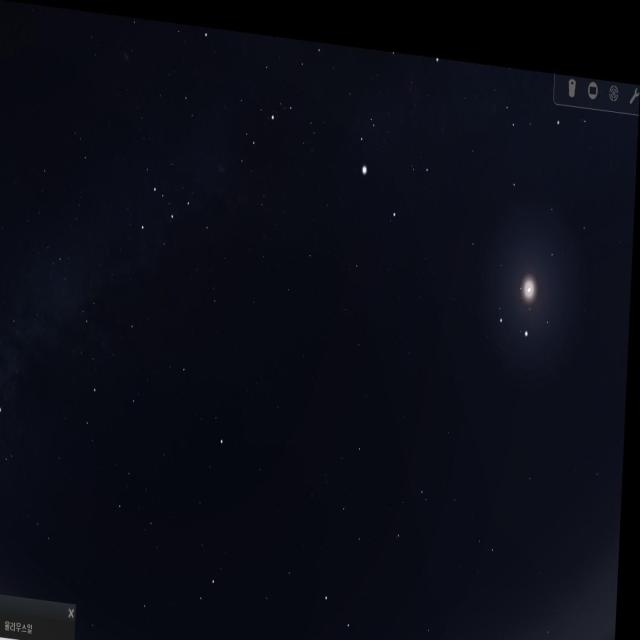cassiopeia: (140, 160, 223, 267)
moon: (513, 234, 554, 312)
